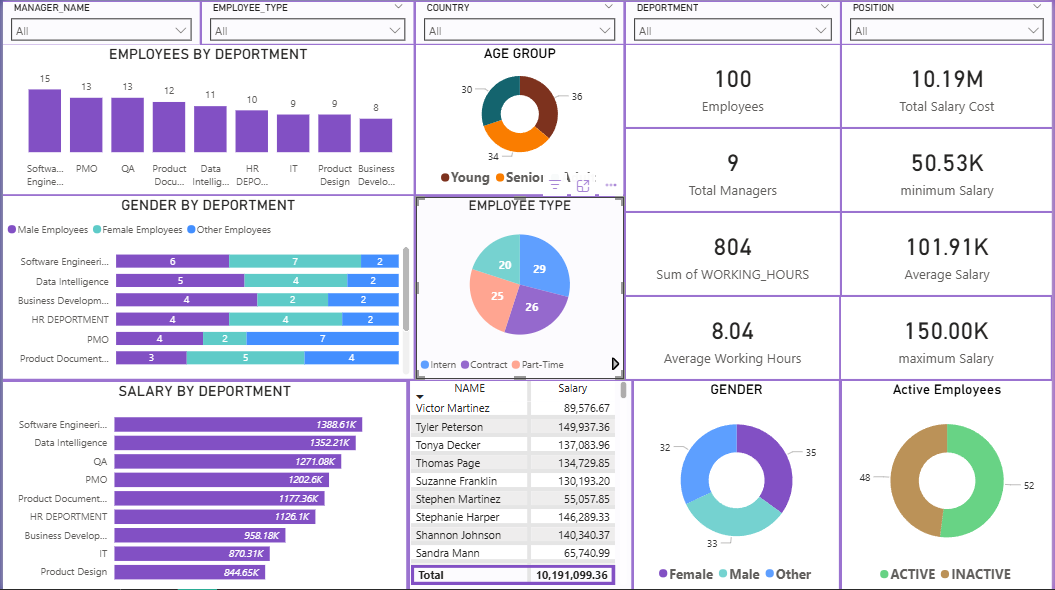

What the dashboard file says about the page in this screenshot:
{"tool":"powerbi","page":{"name":"HR","canvas":[1280,720],"ordinal":0},"visuals":[{"type":"donutChart","title":"Active Employees","fields":{"Category":["EMPLOYEES_WORKING_DETAILS.ACTIVE_EMPLOYEE"],"Y":["mesures.Total Employees"]},"box":[1023.4,463.5,256.5,256.5],"z":0},{"type":"clusteredBarChart","title":"SALARY BY DEPORTMENT","fields":{"Y":["mesures.Total Salary Cost"],"Category":["EMPLOYEES_WORKING_DETAILS.DEPORTMENT"]},"box":[0,464.7,492.4,255.3],"z":1000},{"type":"pieChart","title":"GENDER","fields":{"Y":["mesures.Total Employees"],"Category":["EMPLOYESS_BASICS.GENDER"]},"box":[769.4,463.5,250.4,255.3],"z":2000},{"type":"donutChart","title":"AGE GROUP","fields":{"Y":["mesures.Total Employees"],"Category":["EMPLOYESS_BASICS.age_group"]},"box":[503.8,54.2,253.4,181.6],"z":3000},{"type":"card","fields":{"Values":["mesures.Total Employees"]},"box":[760.1,54.2,260.7,100],"z":4000},{"type":"columnChart","title":"EMPLOYEES BY DEPORTMENT","fields":{"Category":["EMPLOYEES_WORKING_DETAILS.DEPORTMENT"],"Y":["mesures.Total Employees"]},"box":[0,54.2,500.9,181.8],"z":5000},{"type":"hundredPercentStackedBarChart","title":"GENDER BY DEPORTMENT","fields":{"Category":["EMPLOYEE_MANAGERS.DEPORTMENT"],"Y":["mesures.Male Employees","mesures.Female Employees","mesures.Other Employees"]},"box":[0,238.4,500.9,222.7],"z":6000},{"type":"card","fields":{"Values":["mesures.Total Salary Cost"]},"box":[1023.7,54.2,256.3,100],"z":7000},{"type":"pieChart","title":"EMPLOYEE TYPE","fields":{"Category":["EMPLOYEES_WORKING_DETAILS.EMPLOYEE_TYPE"],"Y":["mesures.Total Employees"]},"box":[503.8,238.7,253.4,222.6],"z":8000},{"type":"slicer","fields":{"Values":["EMPLOYEES_WORKING_DETAILS.POSITION"]},"box":[1023.4,1.4,256.3,51.3],"z":9000},{"type":"slicer","fields":{"Values":["EMPLOYEES_WORKING_DETAILS.DEPORTMENT"]},"box":[759.7,1.4,260.7,51.3],"z":10000},{"type":"slicer","fields":{"Values":["EMPLOYEES_WORKING_DETAILS.EMPLOYEE_TYPE"]},"box":[242.8,1.4,258,51.3],"z":11000},{"type":"slicer","fields":{"Values":["EMPLOYESS_BASICS.COUNTRY"]},"box":[503.4,1.4,253.4,51.3],"z":12000},{"type":"slicer","fields":{"Values":["EMPLOYEE_MANAGERS.MANAGER_NAME"]},"box":[0,1.2,239.6,51.8],"z":13000},{"type":"tableEx","fields":{"Values":["EMPLOYEES_WORKING_DETAILS.NAME","Sum(EMPLOYEES_WORKING_DETAILS.SALARY)"]},"box":[496.1,463.5,269.7,254],"z":14000},{"type":"card","fields":{"Values":["Sum(EMPLOYEES_WORKING_DETAILS.WORKING_HOURS)"]},"box":[760.1,259.2,260.7,99.6],"z":15000},{"type":"card","fields":{"Values":["mesures.minimum Salary"]},"box":[1023.7,156.7,256.3,99.6],"z":16000},{"type":"card","fields":{"Values":["mesures.Average Salary"]},"box":[1023.7,259.2,256.3,99.6],"z":17000},{"type":"card","fields":{"Values":["mesures.Total Managers"]},"box":[760.1,156.7,260.7,99.6],"z":18000},{"type":"card","fields":{"Values":["mesures.maximum Salary"]},"box":[1022.2,361.2,256.5,99.9],"z":19000},{"type":"card","fields":{"Values":["mesures.Average Working Hours"]},"box":[759.7,361.2,260.1,99.9],"z":20000}]}

Visuals, with their boxes in screenshot pixels (x1, y1, x2, y2), scaled from the page's 1280x720 canvas onto the 1055x590 screenshot:
"Active Employees" donutChart: [844,380,1054,589]
"SALARY BY DEPORTMENT" clusteredBarChart: [0,381,406,589]
"GENDER" pieChart: [634,380,841,589]
"AGE GROUP" donutChart: [415,44,624,193]
card - mesures.Total Employees: [626,44,841,126]
"EMPLOYEES BY DEPORTMENT" columnChart: [0,44,413,193]
"GENDER BY DEPORTMENT" hundredPercentStackedBarChart: [0,195,413,378]
card - mesures.Total Salary Cost: [844,44,1054,126]
"EMPLOYEE TYPE" pieChart: [415,196,624,378]
slicer - EMPLOYEES_WORKING_DETAILS.POSITION: [844,1,1054,43]
slicer - EMPLOYEES_WORKING_DETAILS.DEPORTMENT: [626,1,841,43]
slicer - EMPLOYEES_WORKING_DETAILS.EMPLOYEE_TYPE: [200,1,413,43]
slicer - EMPLOYESS_BASICS.COUNTRY: [415,1,624,43]
slicer - EMPLOYEE_MANAGERS.MANAGER_NAME: [0,1,197,43]
tableEx - EMPLOYEES_WORKING_DETAILS.NAME x Sum(EMPLOYEES_WORKING_DETAILS.SALARY): [409,380,631,588]
card - Sum(EMPLOYEES_WORKING_DETAILS.WORKING_HOURS): [626,212,841,294]
card - mesures.minimum Salary: [844,128,1054,210]
card - mesures.Average Salary: [844,212,1054,294]
card - mesures.Total Managers: [626,128,841,210]
card - mesures.maximum Salary: [843,296,1054,378]
card - mesures.Average Working Hours: [626,296,841,378]
